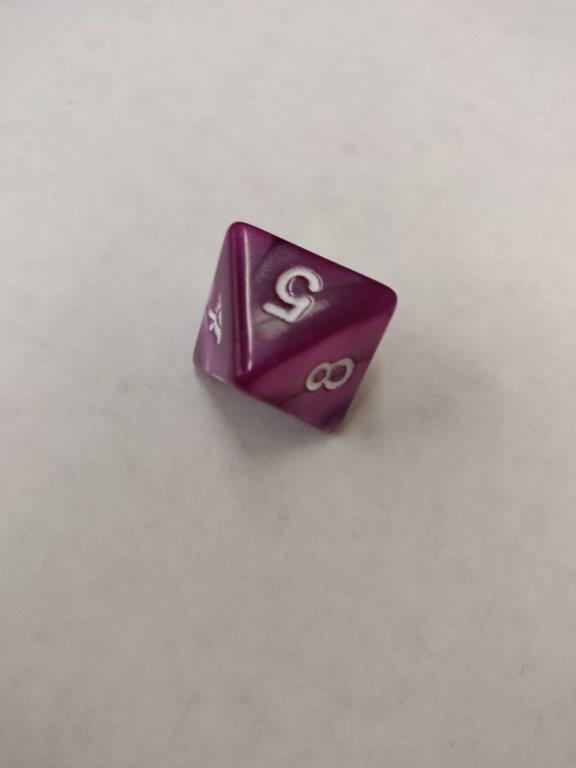d8-5: (190, 219, 401, 437)
